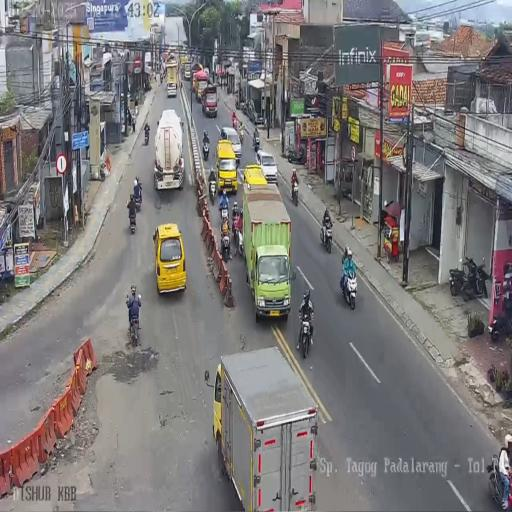3: (209, 347, 316, 511), (242, 176, 290, 318), (154, 108, 184, 192), (165, 56, 178, 99), (194, 70, 208, 105), (179, 54, 188, 77)
car: (153, 224, 186, 294), (216, 138, 238, 194), (254, 148, 278, 183)
truck: (489, 267, 512, 338), (462, 254, 489, 302), (297, 305, 314, 358), (340, 260, 358, 310), (447, 261, 467, 296), (320, 215, 334, 252), (220, 222, 231, 262), (286, 142, 305, 164), (231, 201, 241, 237), (208, 174, 217, 205), (290, 178, 299, 206), (128, 205, 136, 234), (134, 188, 142, 213), (202, 137, 210, 161), (252, 130, 260, 152), (144, 127, 150, 145), (131, 114, 136, 134), (239, 128, 244, 145), (234, 97, 240, 110), (160, 73, 163, 84)
